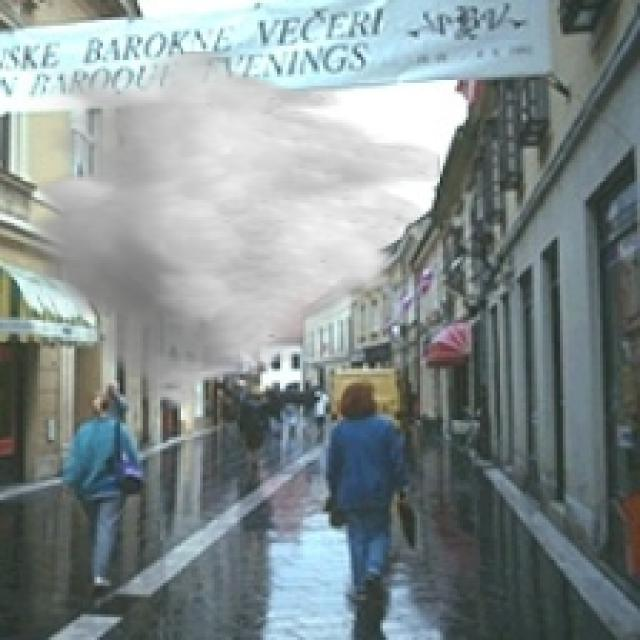smoke: (23, 52, 440, 417)
